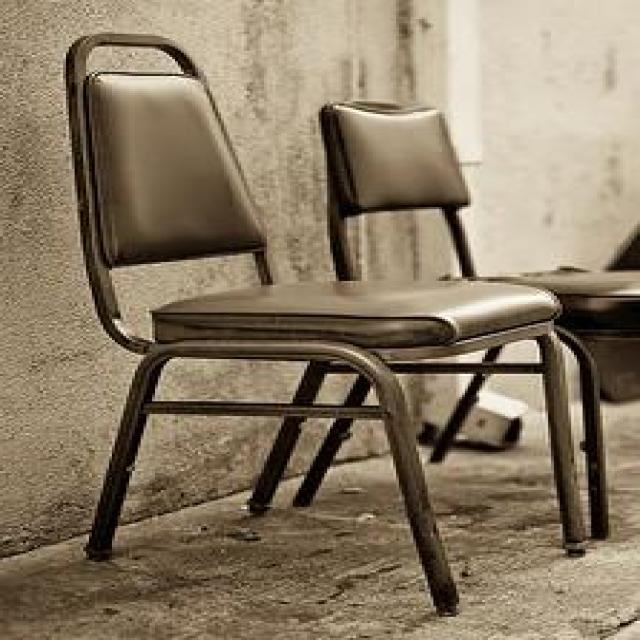chair: (61, 31, 588, 614)
